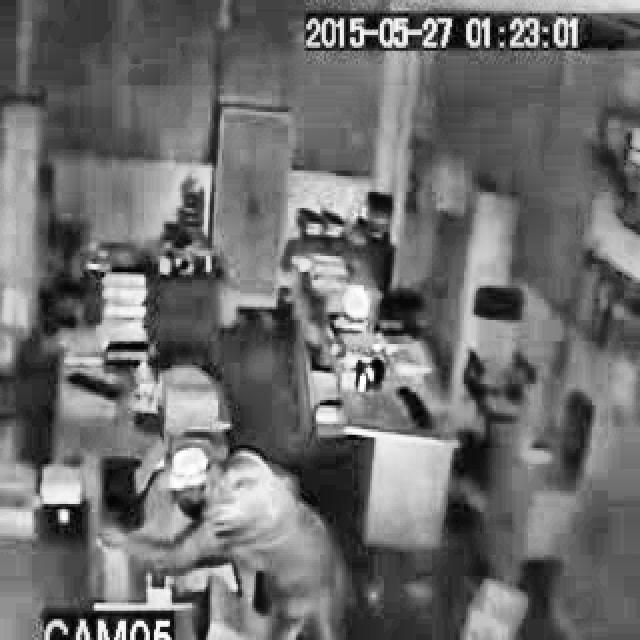burglary: (87, 436, 350, 640)
